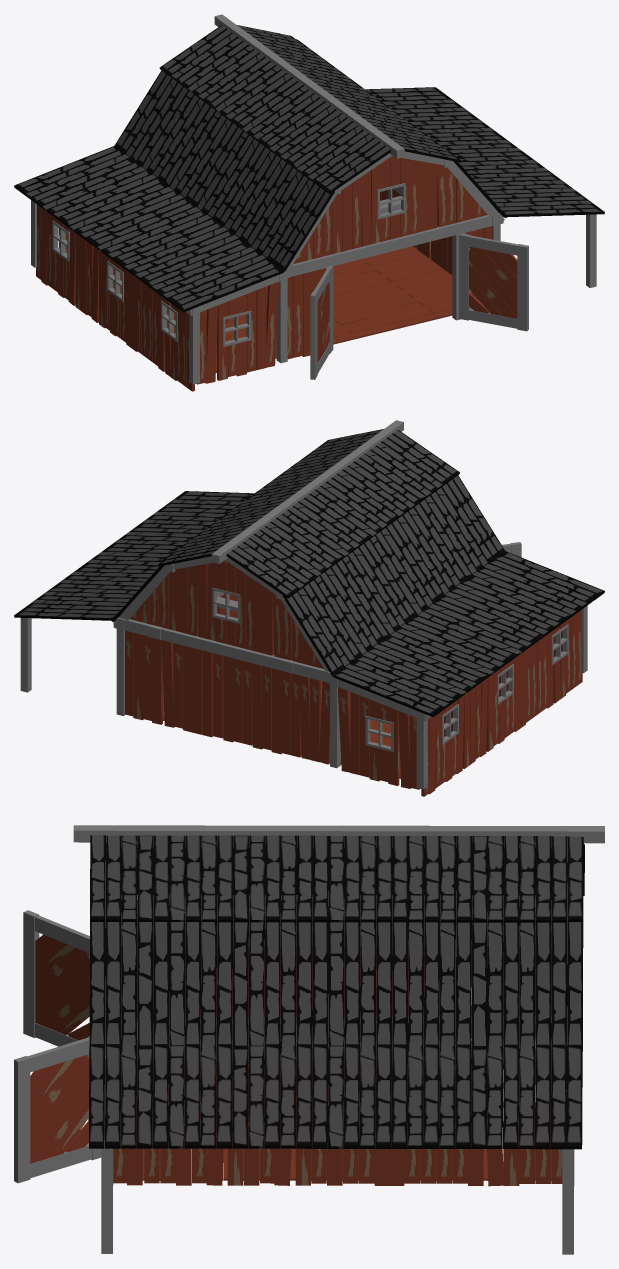
The model's file is granero.glb.
The picture shows the model from 3 angles, top to bottom: view 1: azimuth 30°, elevation 25°; view 2: azimuth 150°, elevation 25°; view 3: azimuth 270°, elevation 25°; orthographic projection. The views are drawn at different scales.
Parts seen in each view (by area): view 1: Cubo.083, texMade.121, Cubo.149, Cubo.101; view 2: Cubo.083, texMade.121; view 3: Cubo.083, Cubo.149, Cubo.101, texMade.121.
Part boxes in pixels (<box>): Cubo.083: <box>14,14,604,391</box>; texMade.121: <box>113,246,452,372</box>; Cubo.149: <box>459,233,528,331</box>; Cubo.101: <box>310,265,332,379</box>; Cubo.083: <box>14,420,604,796</box>; texMade.121: <box>163,671,508,778</box>; Cubo.083: <box>73,825,604,1254</box>; Cubo.149: <box>14,1036,101,1183</box>; Cubo.101: <box>23,910,89,1046</box>; texMade.121: <box>121,968,551,1180</box>.
Size of the model in its own units: 13.71 by 6.38 by 11.49.
8 materials, 3 textured.
